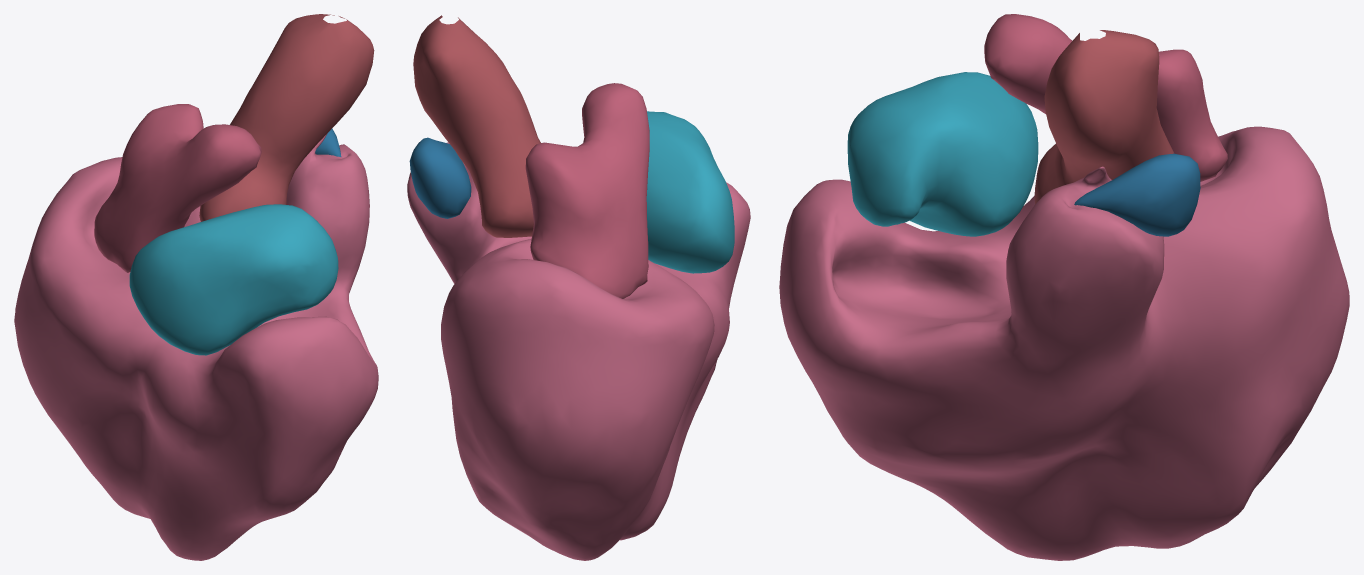
The model's file is frame_18.glb.
3 views of the same model, side by side, from view 1: azimuth 30°, elevation 25°; view 2: azimuth 150°, elevation 25°; view 3: azimuth 270°, elevation 25° (orthographic). The views are drawn at different scales.
Visible parts, largest first — view 1: Renderer Node; view 2: Renderer Node; view 3: Renderer Node.
Boxes of the visible parts, x1=… form: Renderer Node: x1=14, y1=14, x2=378, y2=560; Renderer Node: x1=407, y1=15, x2=750, y2=560; Renderer Node: x1=779, y1=14, x2=1349, y2=560.
Size of the model in its own units: 101 by 158 by 131.
